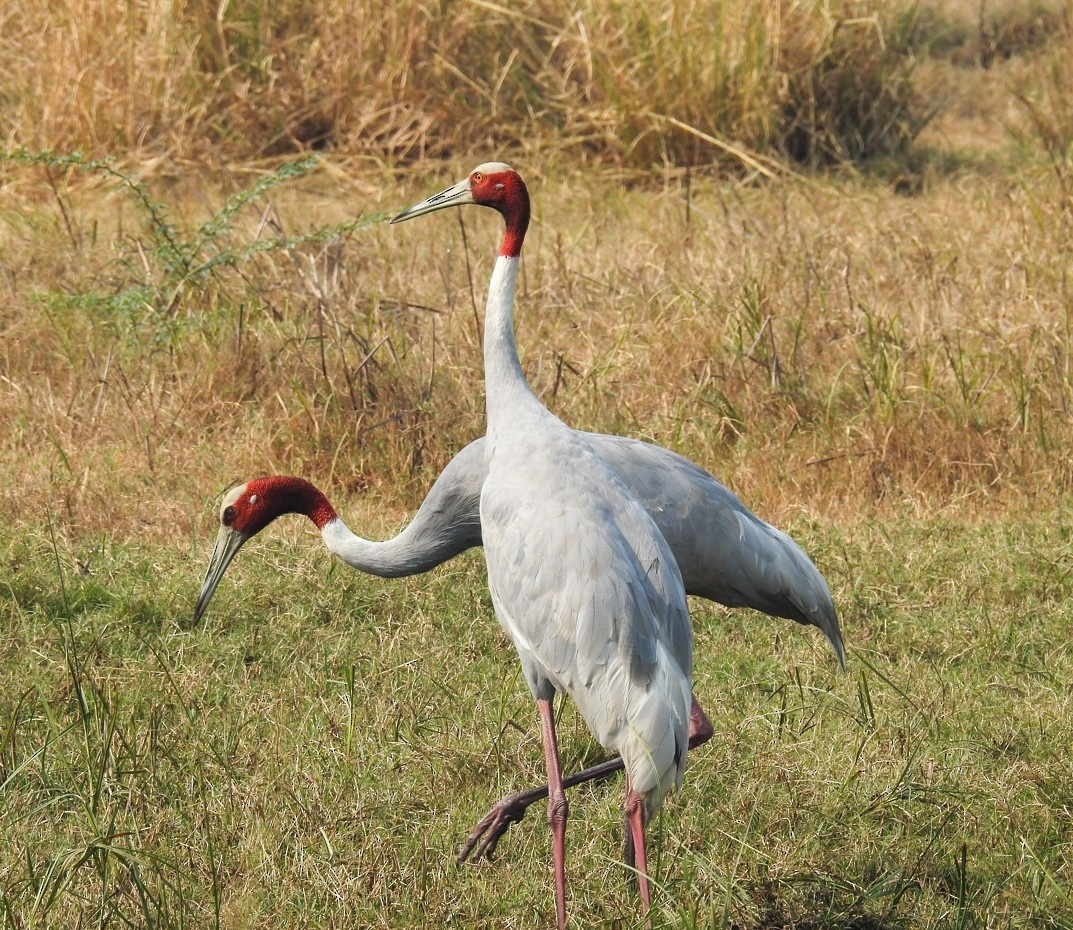crane: (398, 147, 714, 929), (178, 428, 846, 666)
